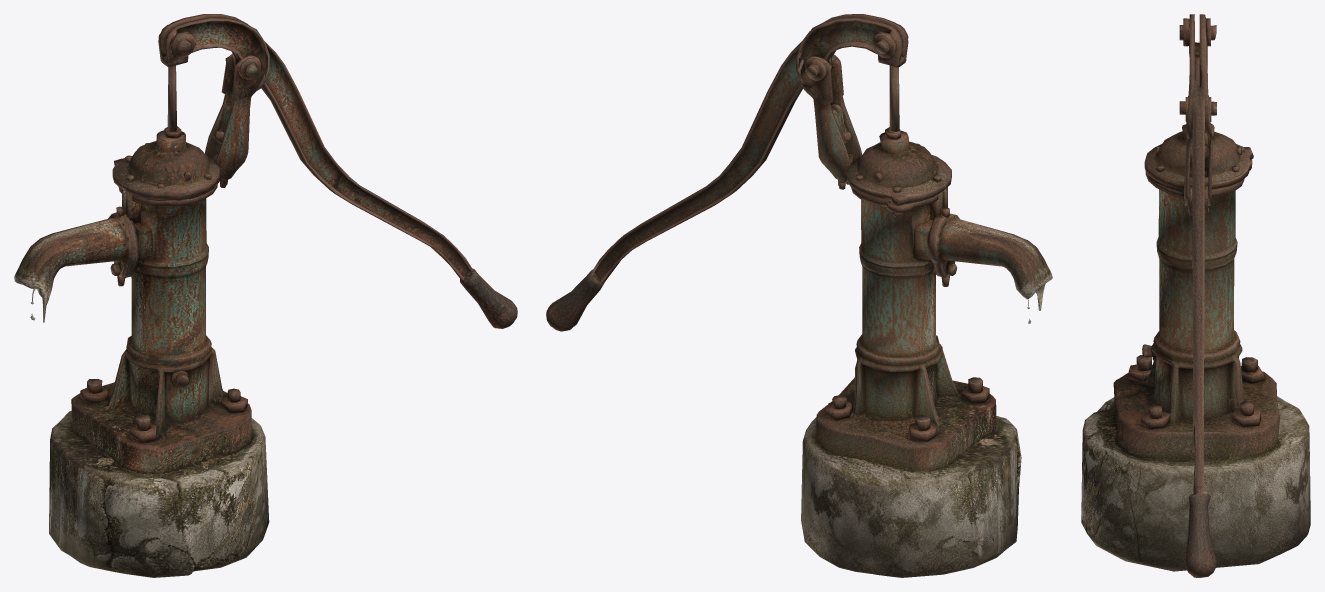
Rendered from Meshy_AI_Rusty_Hand_Pump_20261028_texture.fbx.
The picture shows the model from 3 angles, left to right: view 1: azimuth 30°, elevation 25°; view 2: azimuth 150°, elevation 25°; view 3: azimuth 270°, elevation 25°; orthographic projection. The views are drawn at different scales.
Parts seen in each view (by area): view 1: Mesh_0; view 2: Mesh_0; view 3: Mesh_0.
Boxes of the visible parts, x1=… form: Mesh_0: x1=14, y1=14, x2=517, y2=577; Mesh_0: x1=546, y1=14, x2=1052, y2=577; Mesh_0: x1=1081, y1=14, x2=1310, y2=577.
Bounding box in the file's own units: 95.26 × 91.94 × 36.62.
1 material, 1 textured.
